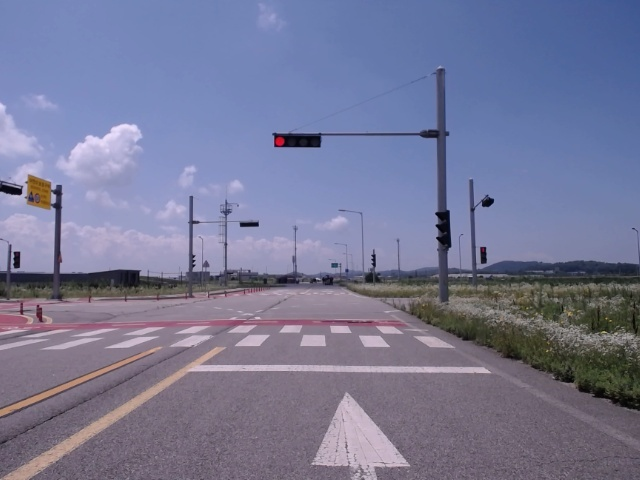red_4: (274, 134, 321, 148)
